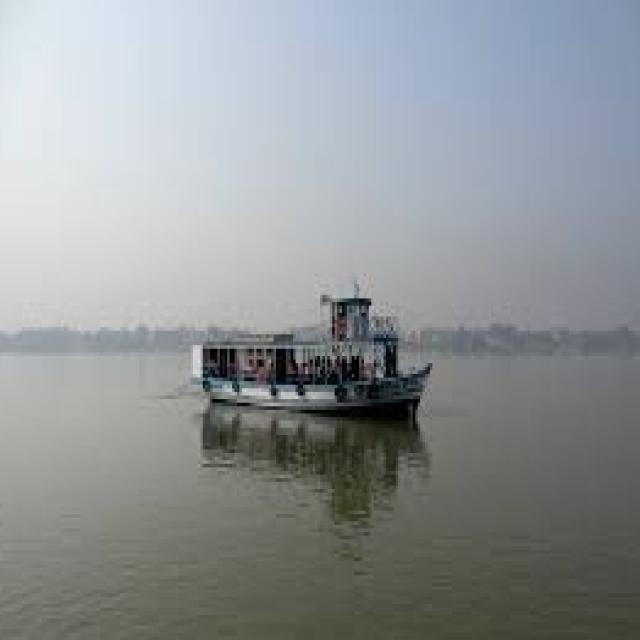fishing boat: (187, 278, 434, 411)
